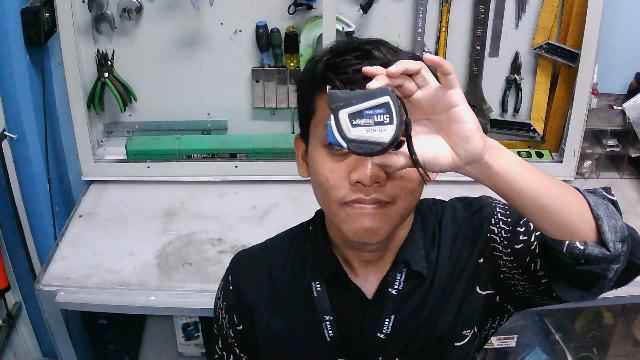meteran: (323, 85, 413, 162)
